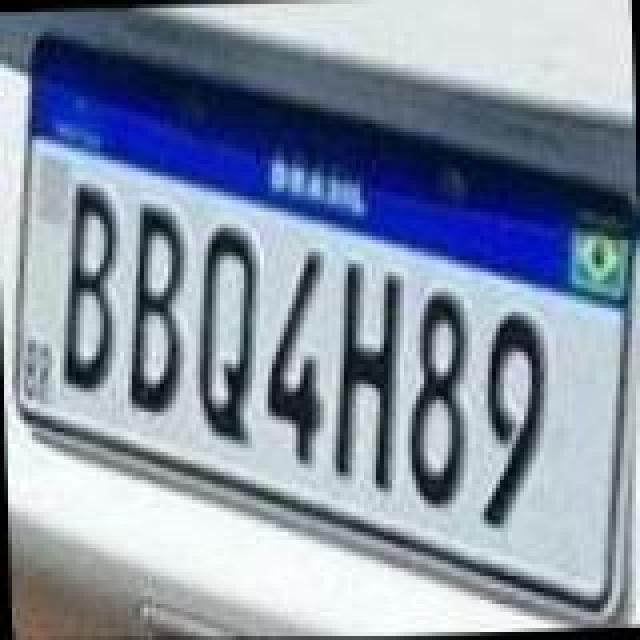4: (260, 242, 336, 466)
8: (400, 284, 476, 512)
9: (472, 302, 560, 526)
B: (118, 194, 194, 418), (48, 176, 124, 392)
H: (324, 256, 416, 496)
Q: (184, 214, 264, 454)
